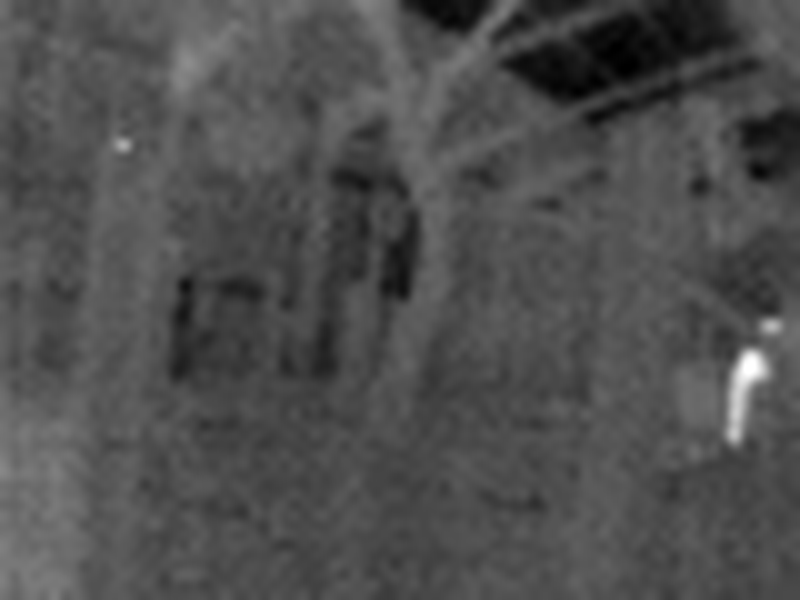elephant: (700, 303, 794, 484)
